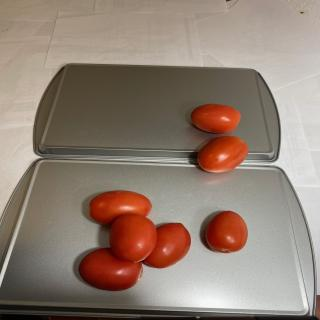Tomato: (78, 248, 143, 291), (109, 213, 158, 263), (143, 222, 191, 268), (89, 190, 152, 225), (197, 135, 249, 173), (205, 210, 248, 253), (190, 103, 242, 134)
